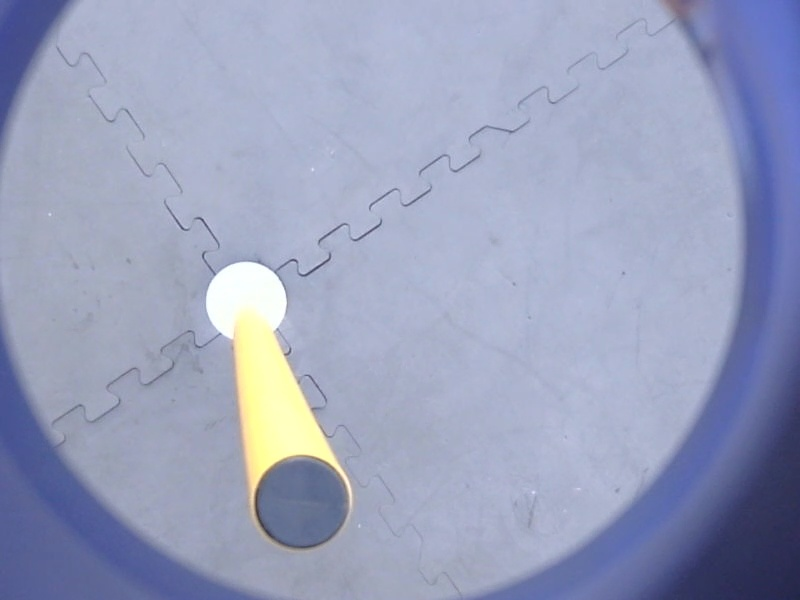tip: (243, 448, 359, 559)
